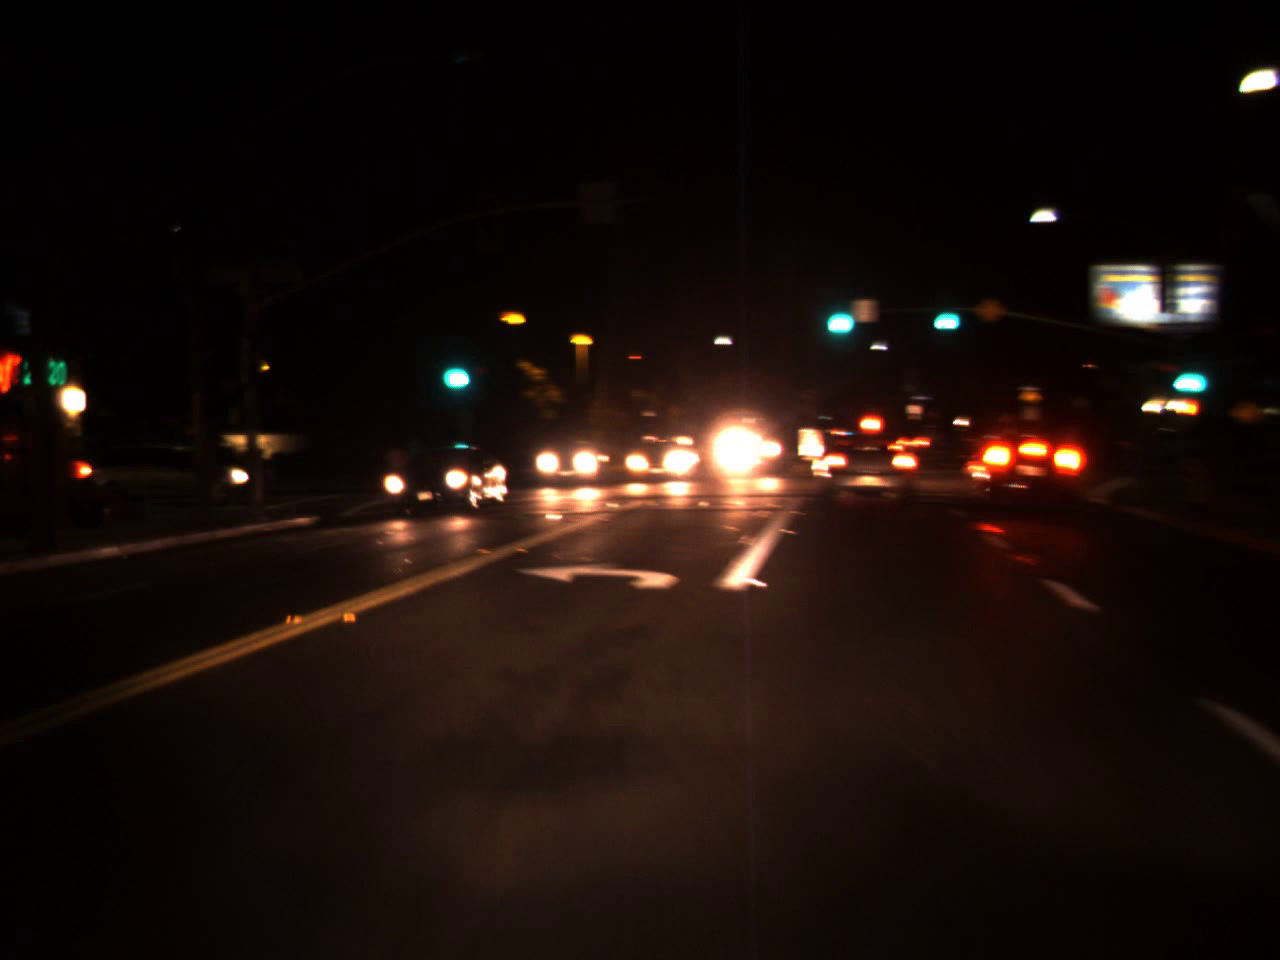go: (921, 291, 966, 336), (1162, 357, 1210, 396), (818, 301, 857, 336), (438, 353, 470, 389)
